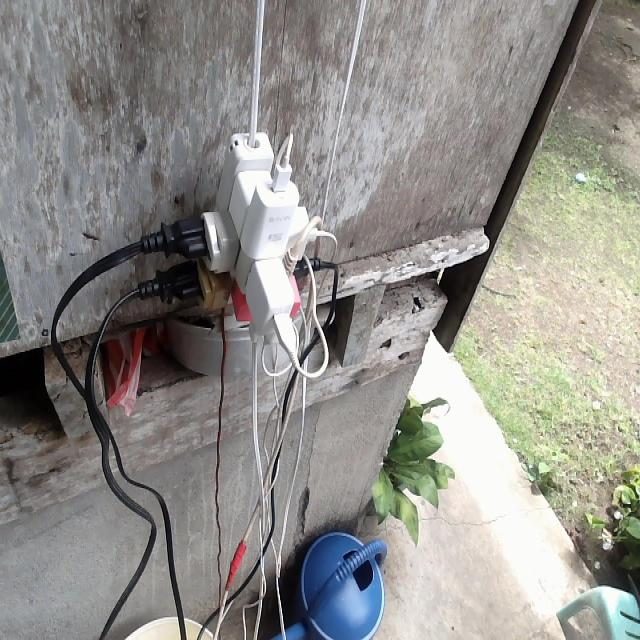-: (167, 125, 319, 354)
